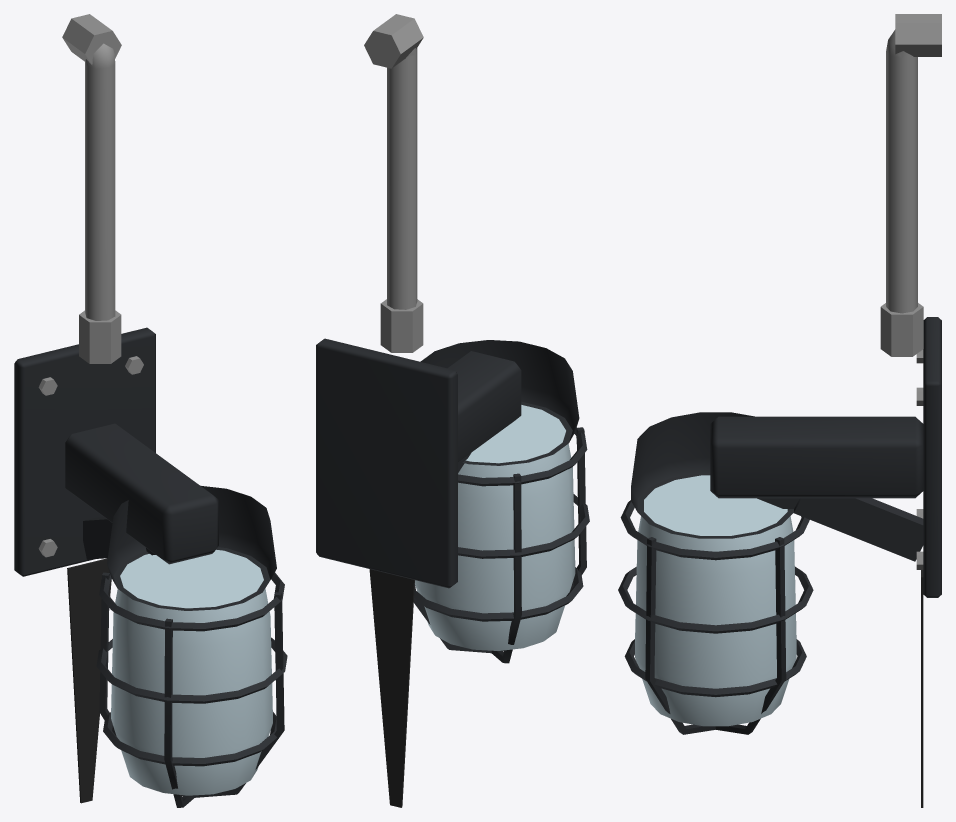
File: Wall_Lamp_Cage.fbx
3 renders of one model, left to right at view 1: azimuth 30°, elevation 25°; view 2: azimuth 150°, elevation 25°; view 3: azimuth 270°, elevation 25°, orthographic.
Visible parts, largest first — view 1: Wall_Lamp_Cage_LOD0; view 2: Wall_Lamp_Cage_LOD0; view 3: Wall_Lamp_Cage_LOD0.
Boxes of the visible parts, <box> form: Wall_Lamp_Cage_LOD0: <box>14,14,287,807</box>; Wall_Lamp_Cage_LOD0: <box>316,14,589,807</box>; Wall_Lamp_Cage_LOD0: <box>618,14,941,807</box>.
Size of what is drawn, in the model's own units: 0.147 by 0.654 by 0.2435.
